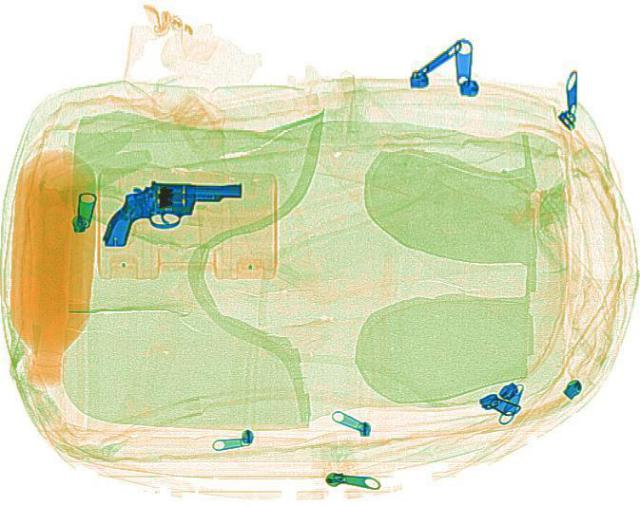Gun: (103, 178, 240, 249)
